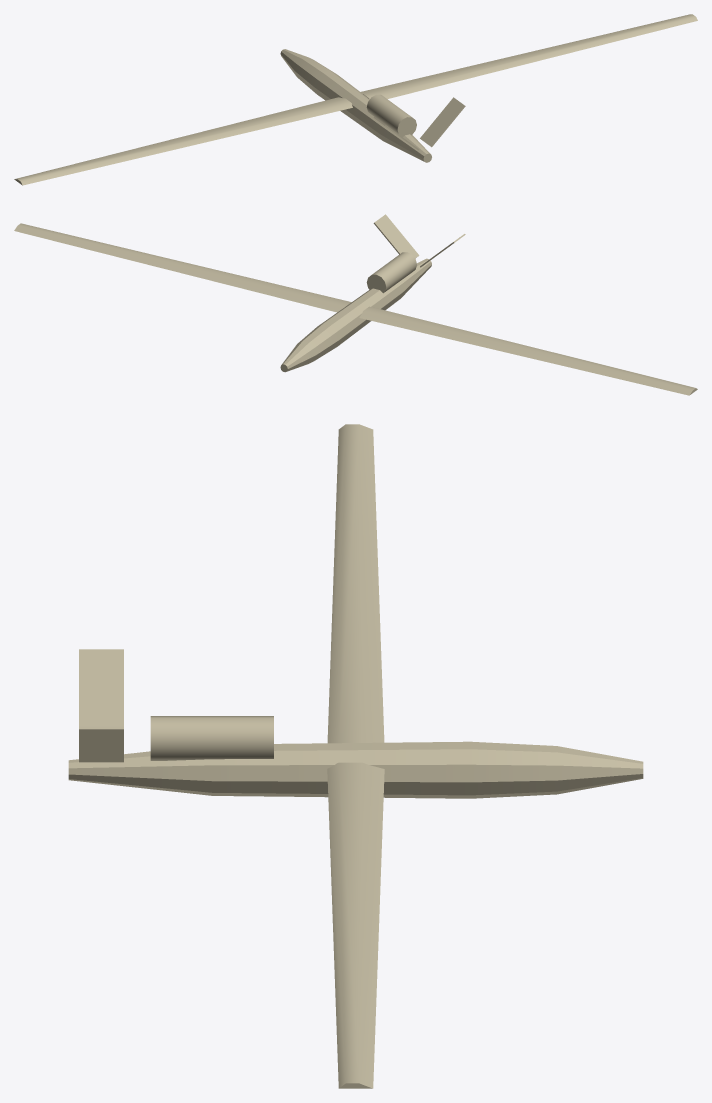
The model's file is usa_uav_rq4.glb.
The picture shows the model from 3 angles, top to bottom: view 1: azimuth 30°, elevation 25°; view 2: azimuth 150°, elevation 25°; view 3: azimuth 270°, elevation 25°; orthographic projection. The views are drawn at different scales.
Parts seen in each view (by area): view 1: body; view 2: body; view 3: body.
Part boxes in pixels (left/top/right/bottom): body: left=14, top=14, right=697, bottom=185; body: left=14, top=214, right=697, bottom=395; body: left=68, top=424, right=643, bottom=1088.
Size of the model in its own units: 31.92 by 2.42 by 11.76.
